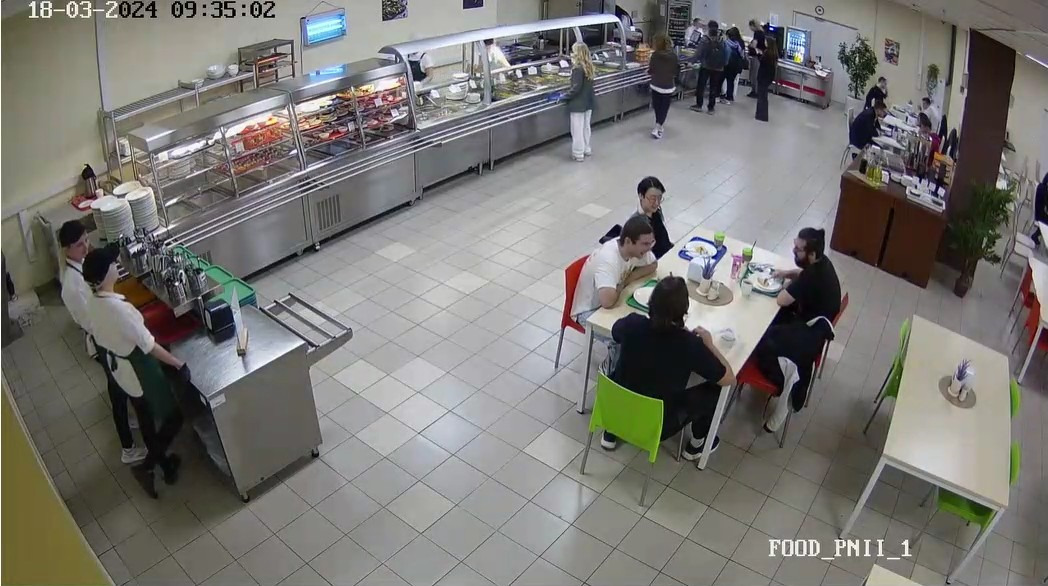Na_Kasse: (691, 22, 723, 111), (752, 39, 776, 117), (720, 24, 739, 103), (746, 16, 764, 42)
Personal: (75, 248, 198, 495), (51, 221, 92, 366), (404, 41, 433, 90), (472, 31, 504, 74), (682, 14, 701, 39)
Vybiraet: (554, 47, 601, 165), (637, 36, 676, 139)
Za_Stolom: (581, 273, 727, 481), (551, 219, 658, 362), (755, 215, 846, 321), (851, 100, 889, 156), (1024, 159, 1048, 243), (628, 176, 666, 229), (913, 122, 942, 149), (873, 67, 891, 100), (910, 97, 939, 117)
